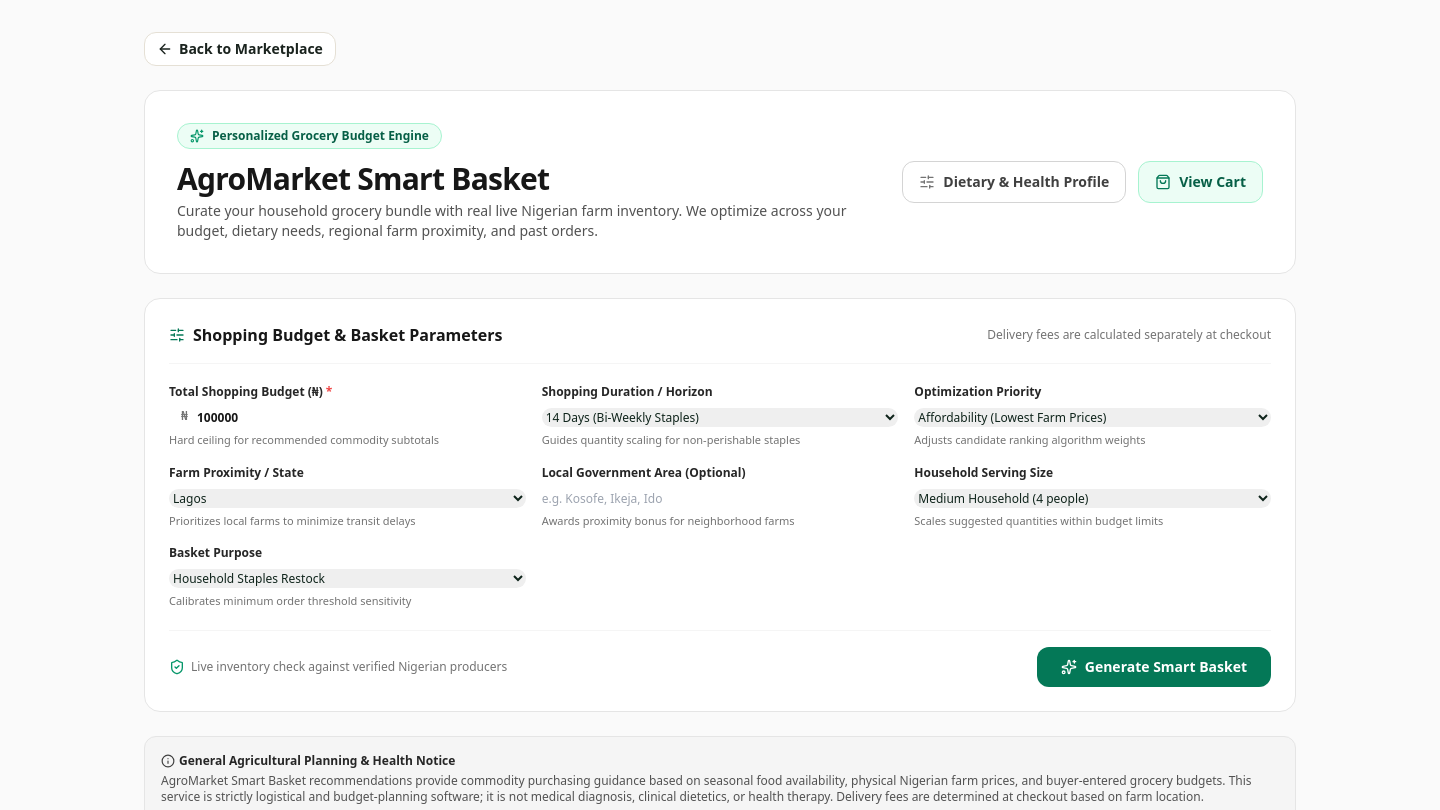
Test: SmartBasketView UI Component Suite › 3. Basket Generation & Visual Result Rendering › displays an error alert when the generation server action fails
Click the button "Generate Smart Basket" at (1154, 666), box [1037,646,1271,686]
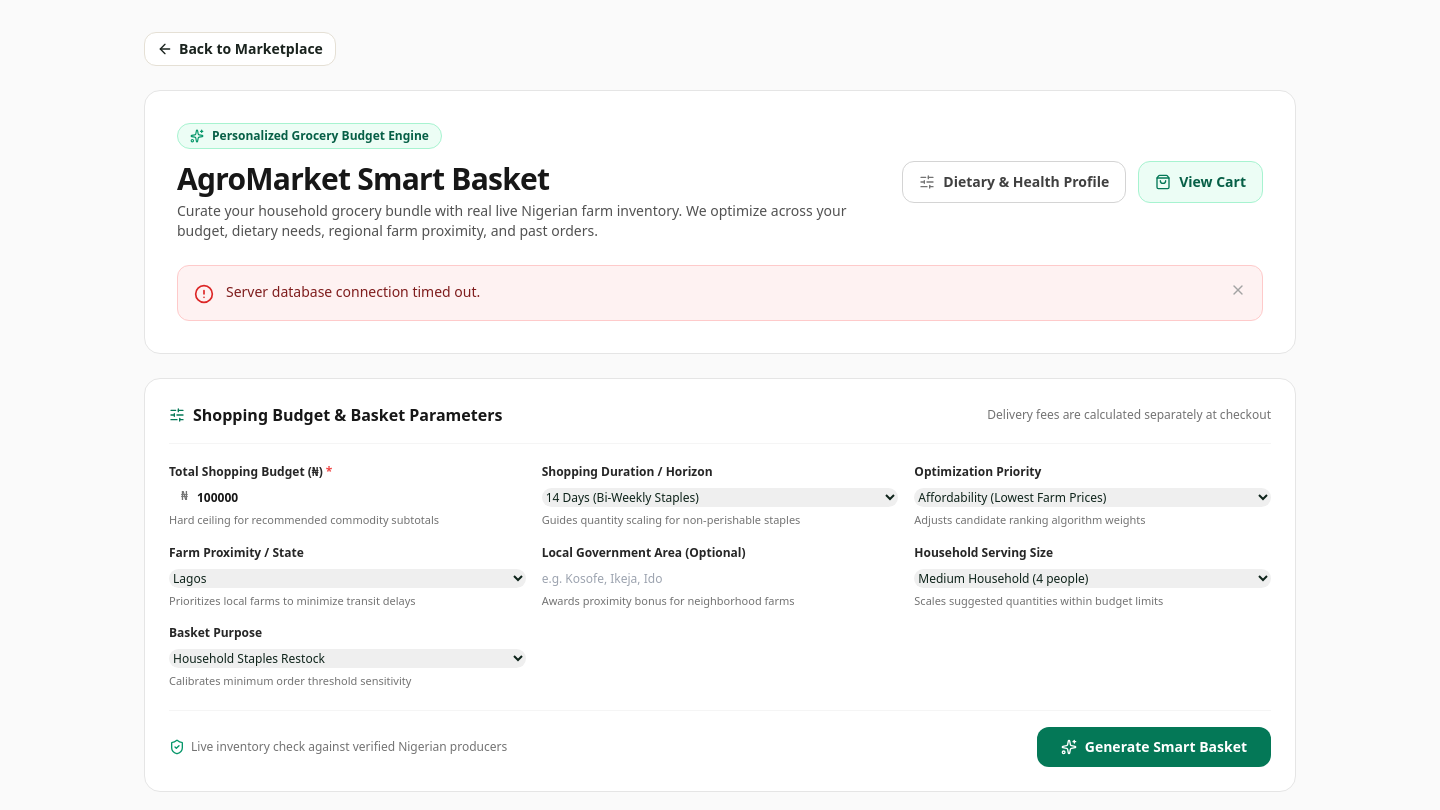
Now the text "Server database connection timed out." is shown, box [226,282,480,301]
